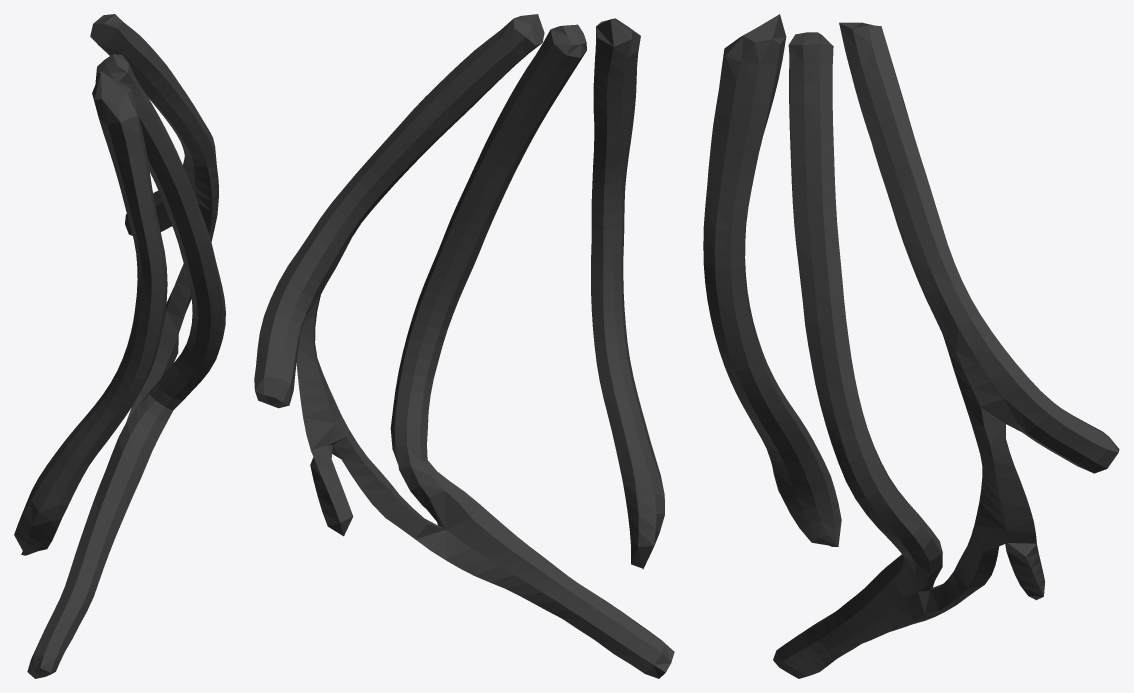
File: sphinc_colli_prof_palpeb.glb
3 renders of one model, left to right at view 1: azimuth 30°, elevation 25°; view 2: azimuth 150°, elevation 25°; view 3: azimuth 270°, elevation 25°, orthographic. The views are drawn at different scales.
Parts seen in each view (by area): view 1: sphinc_colli_prof_palpeb; view 2: sphinc_colli_prof_palpeb; view 3: sphinc_colli_prof_palpeb.
Boxes of the visible parts, box(x1,y1,x2,y2) form: sphinc_colli_prof_palpeb: box(14, 14, 225, 678); sphinc_colli_prof_palpeb: box(254, 14, 674, 678); sphinc_colli_prof_palpeb: box(703, 14, 1119, 678).
Size of the model in its own units: 0.3309 by 0.7124 by 0.3777.
1 material, 1 textured.
